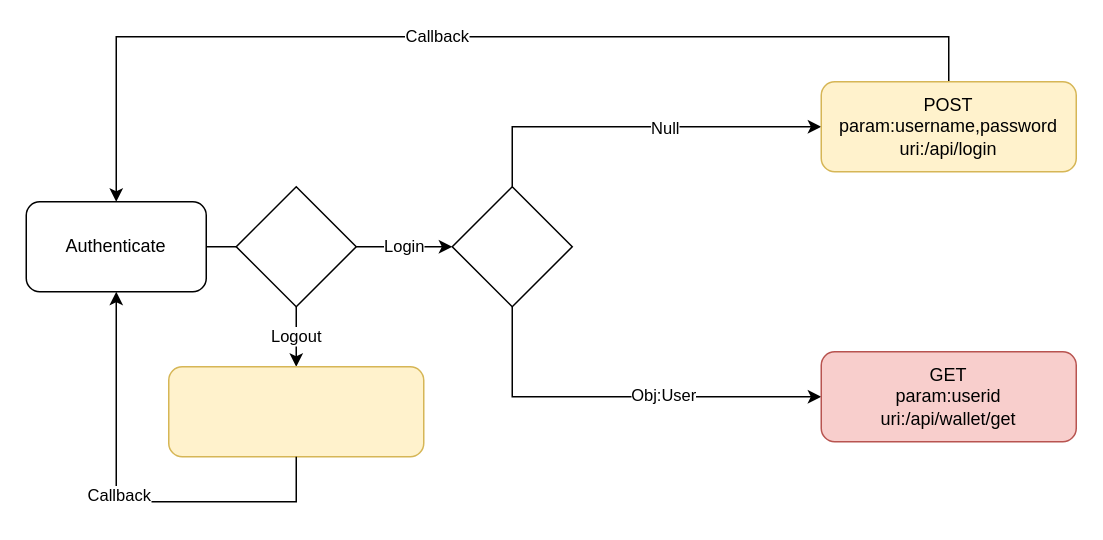
Image size: 1103x540. Some labels were removed from this diagram. The shapes that lost their labels are listed below. From the top down, each one's centre as x and y in pixels, then its label:
At [511,246]: "Session?".
At [295,411]: "POST uri:/api/logout".
